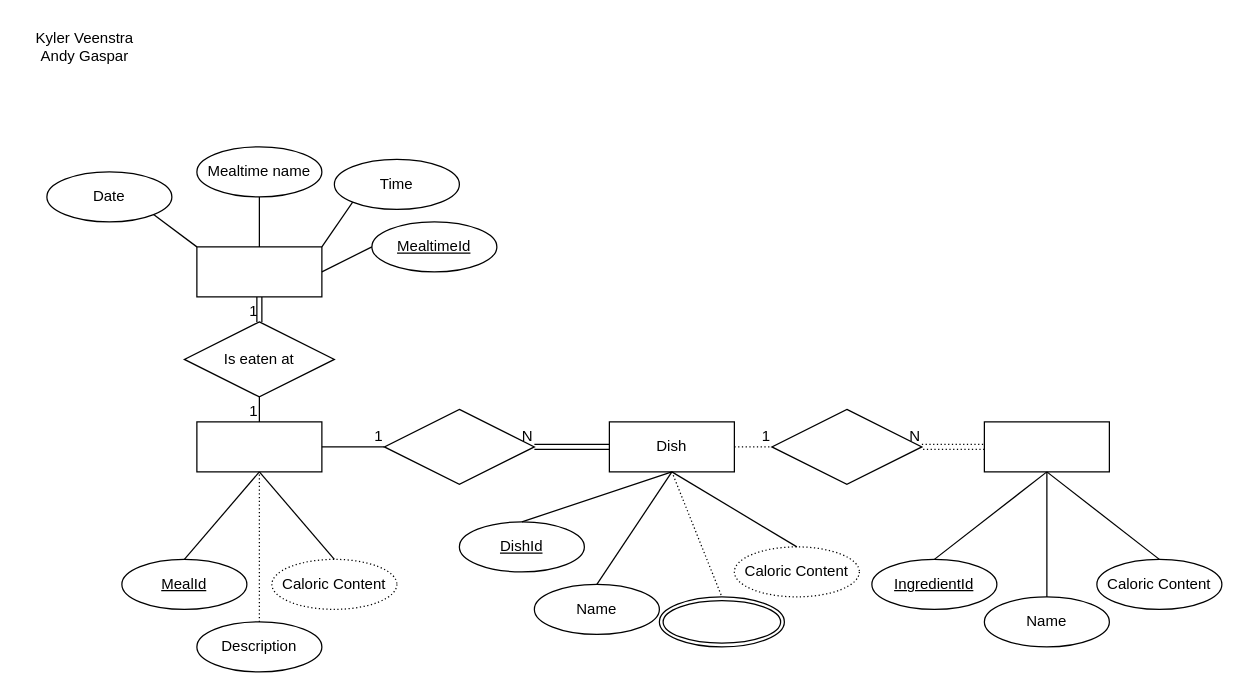
The diagram is 1244 pixels wide and 694 high, and some of its shapes have lost their labels. Each missing label, with the box of its shape:
Ingredient: (983, 421, 1109, 472)
Is made of: (383, 408, 534, 484)
Is made up of: (771, 408, 922, 484)
Meal: (196, 421, 322, 472)
Mealtime: (196, 246, 322, 297)
Tags: (658, 596, 784, 647)
